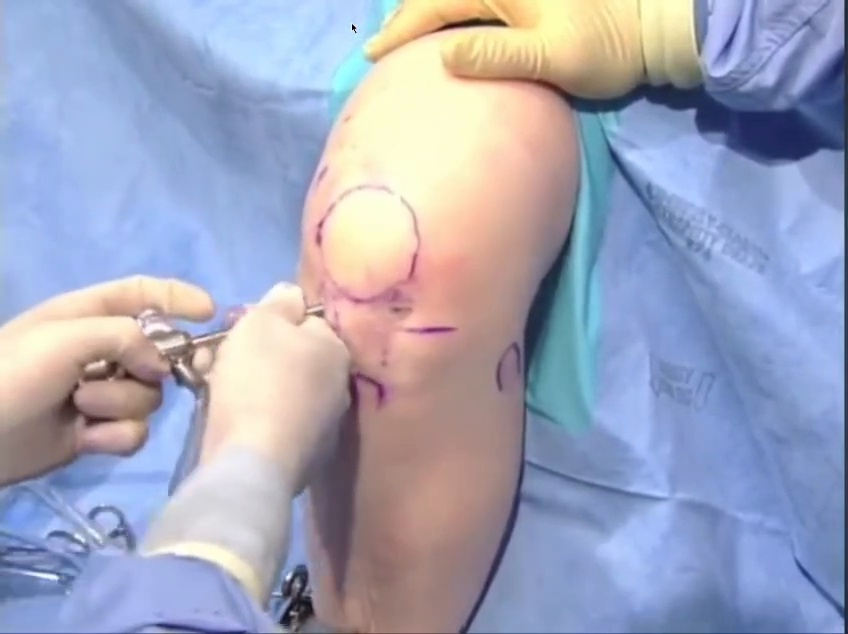arthroscope: (424, 11, 751, 634), (23, 131, 402, 508)
probe: (684, 118, 848, 624), (572, 0, 848, 117), (78, 140, 177, 227)
